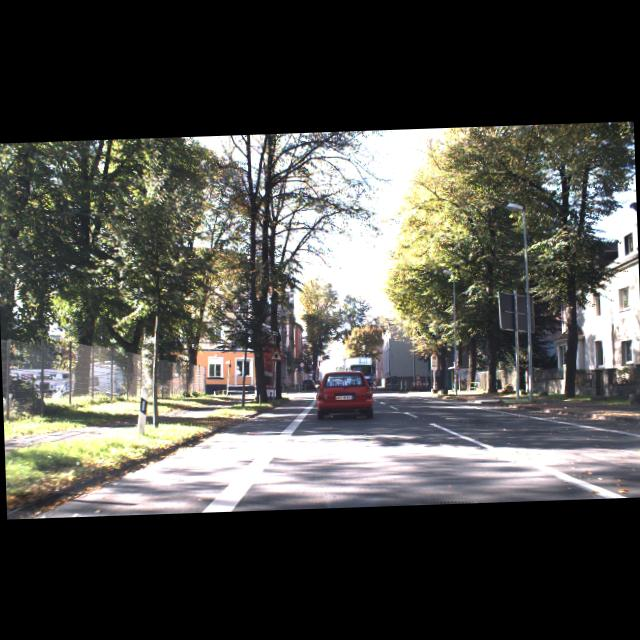danger: (269, 348, 283, 362)
